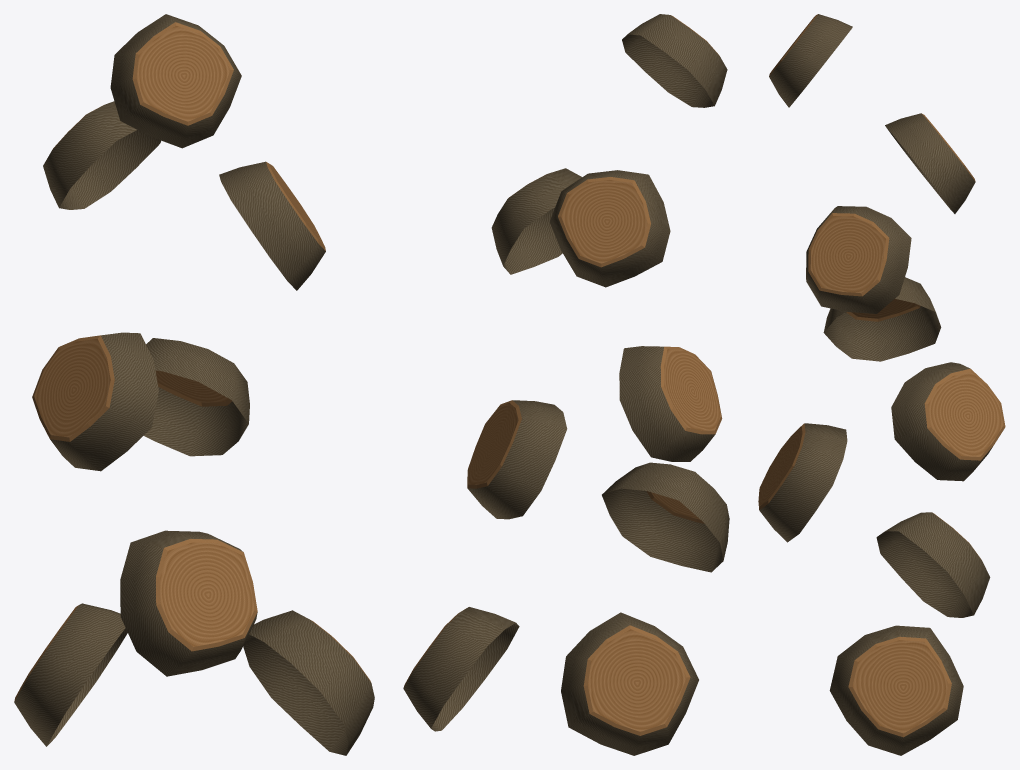
Rendered from Sessile_Oak_Mature_01_MediumPruned_Recent_LOD2.fbx.
3 renders of one model, left to right at view 1: azimuth 30°, elevation 25°; view 2: azimuth 150°, elevation 25°; view 3: azimuth 270°, elevation 25°, orthographic. The views are drawn at different scales.
Visible parts, largest first — view 1: Sessile_Oak_Mature_01_MediumPruned_Recent_LOD2_Scars; view 2: Sessile_Oak_Mature_01_MediumPruned_Recent_LOD2_Scars; view 3: Sessile_Oak_Mature_01_MediumPruned_Recent_LOD2_Scars.
Boxes of the visible parts, x1,y1,x2,y2 form: Sessile_Oak_Mature_01_MediumPruned_Recent_LOD2_Scars: (14,14,374,755); Sessile_Oak_Mature_01_MediumPruned_Recent_LOD2_Scars: (403,14,729,755); Sessile_Oak_Mature_01_MediumPruned_Recent_LOD2_Scars: (758,14,1005,755).
Size of what is drawn, in the model's own units: 151 by 362 by 123.
2 materials, 2 textured.
